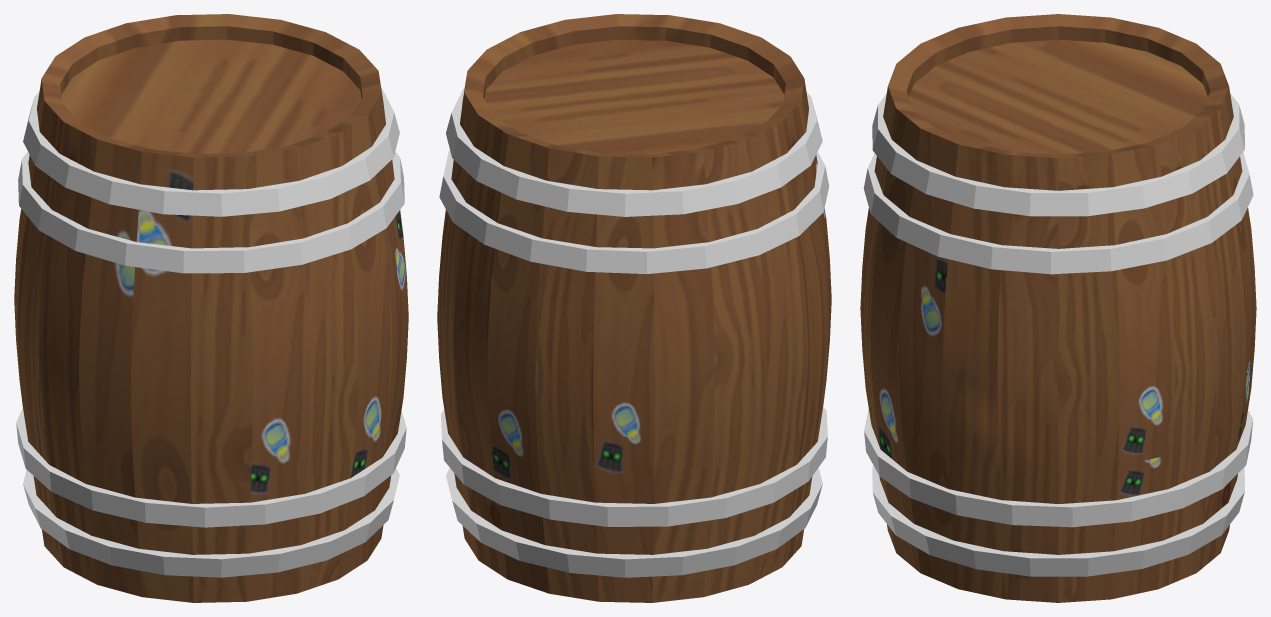
Rendered from Barrel.fbx.
The picture shows the model from 3 angles, left to right: view 1: azimuth 30°, elevation 25°; view 2: azimuth 150°, elevation 25°; view 3: azimuth 270°, elevation 25°; orthographic projection.
Parts seen in each view (by area): view 1: Cylinder; view 2: Cylinder; view 3: Cylinder.
Boxes of the visible parts, box(x1,y1,x2,y2) form: Cylinder: box(14, 14, 408, 602); Cylinder: box(437, 14, 831, 602); Cylinder: box(860, 14, 1256, 602).
Bounding box in the file's own units: 241 × 298 × 241.
